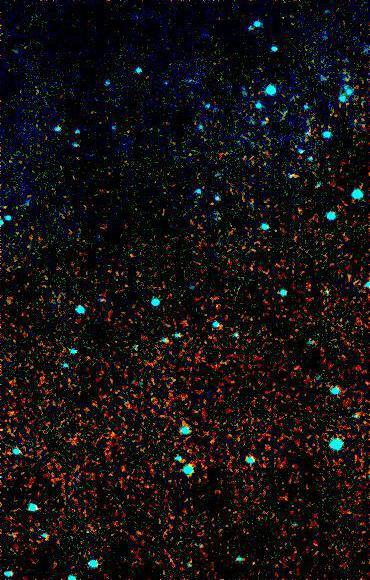star: (200, 196, 230, 226)
